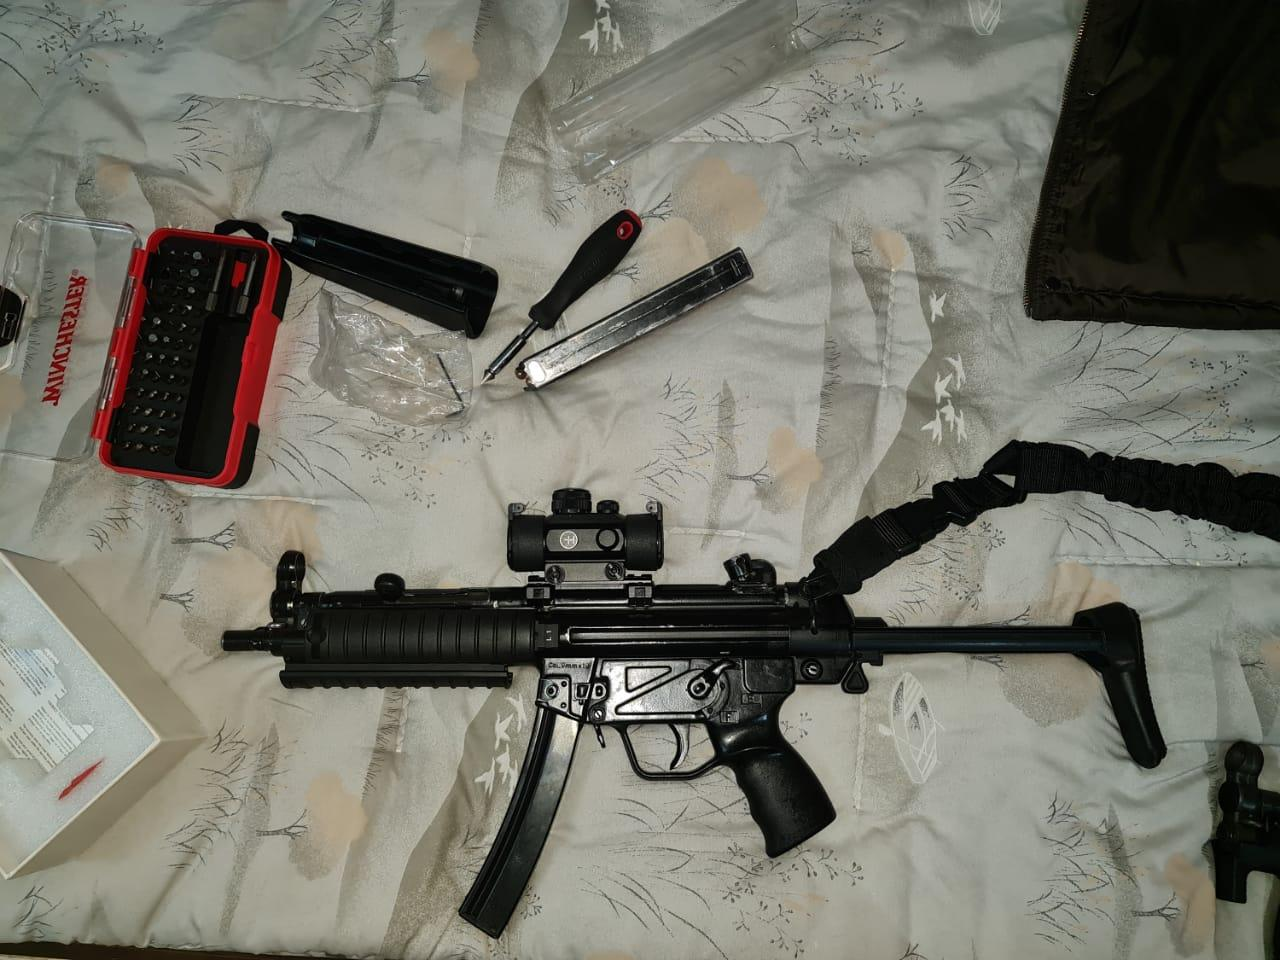weapon: (222, 486, 1167, 940)
